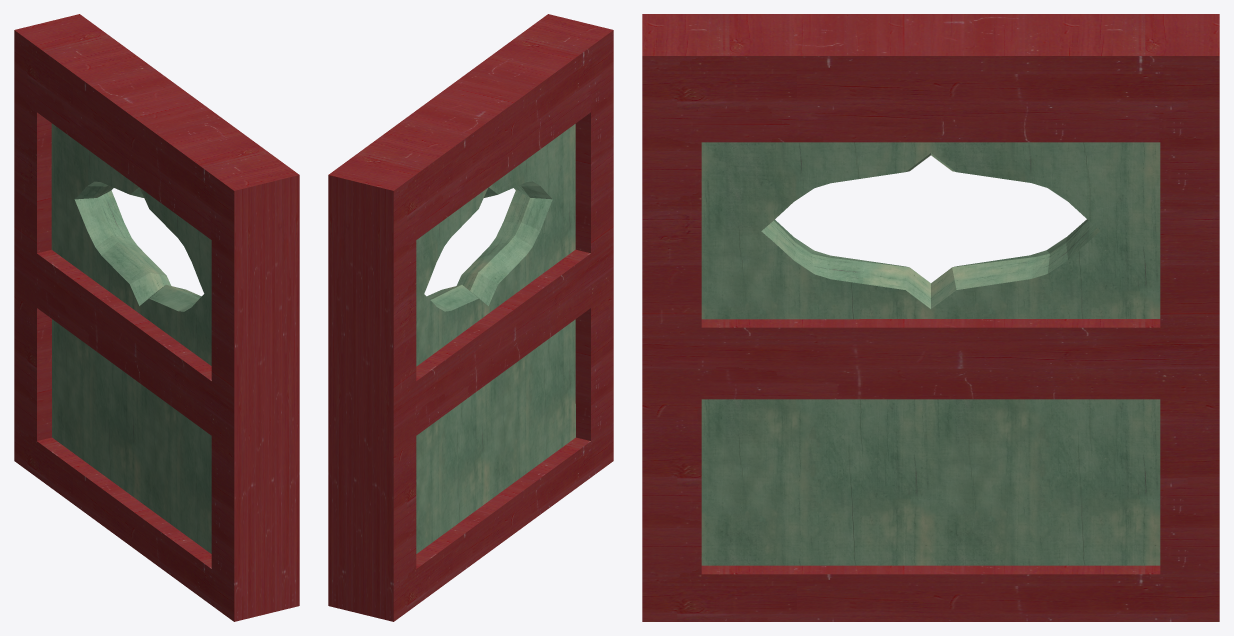
Rendered from SM_M_Handrail_2.fbx.
The picture shows the model from 3 angles, left to right: view 1: azimuth 30°, elevation 25°; view 2: azimuth 150°, elevation 25°; view 3: azimuth 270°, elevation 25°; orthographic projection. The views are drawn at different scales.
Parts seen in each view (by area): view 1: SM_M_Handrail_2_LOD0; view 2: SM_M_Handrail_2_LOD0; view 3: SM_M_Handrail_2_LOD0.
Part boxes in pixels (x1,y1,x2,y2): SM_M_Handrail_2_LOD0: (14,14,299,621); SM_M_Handrail_2_LOD0: (328,14,613,621); SM_M_Handrail_2_LOD0: (642,14,1219,621).
Size of the model in its own units: 11.65 by 67.72 by 73.23.
Materials: 2 (2 with a texture image).
